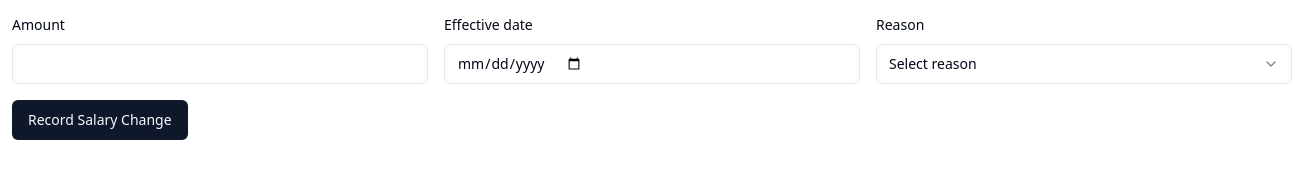
RecordSalaryForm › rejects a non-positive amount and an empty reason
Type "0" into the number field labelled "Amount" at (220, 64), box [12,44,428,84]
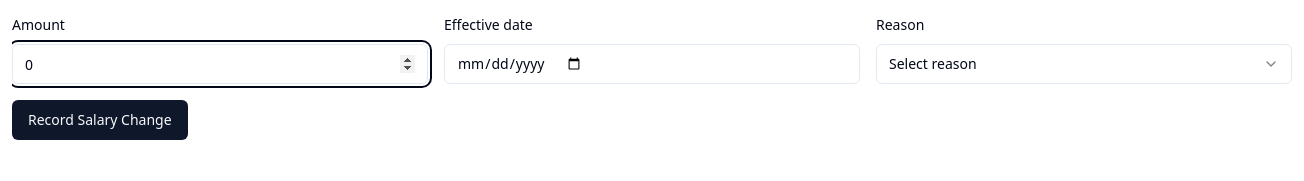
Type "2024-01-01" into the date field labelled "Effective date" at (652, 64), box [444,44,860,84]
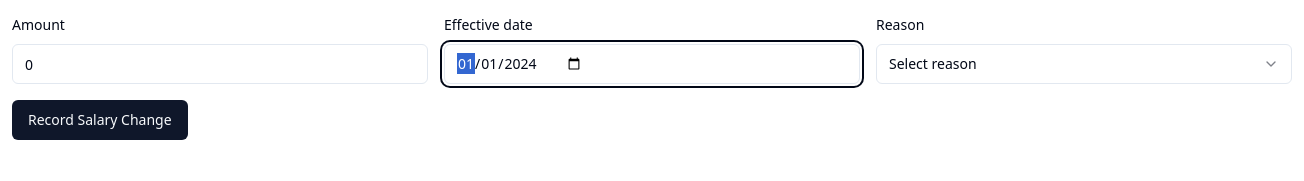
Click the button "Record Salary Change" at (100, 120), box [12,100,188,140]
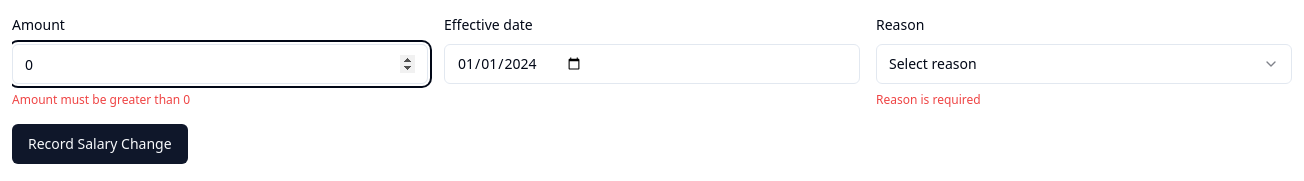
Now the text "Amount must be greater than 0" is shown, box [12,91,190,108]
Now the text "Reason is required" is shown, box [876,91,981,108]
